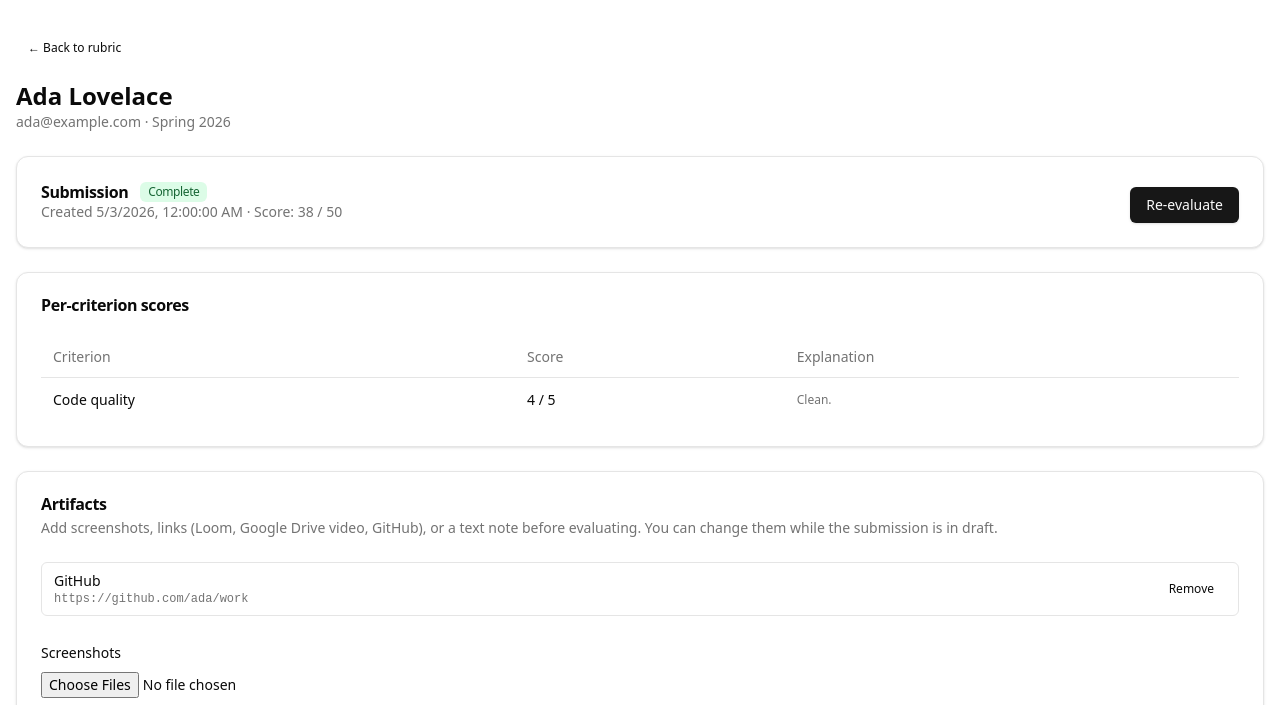
Test: LearnerDetailPage › re-evaluates and shows a success toast on a completed submission
The width and height of the screenshot is (1280, 705).
Click the button with test id "evaluate-button" at {"x": 1185, "y": 205}, box [1130,187,1239,223]
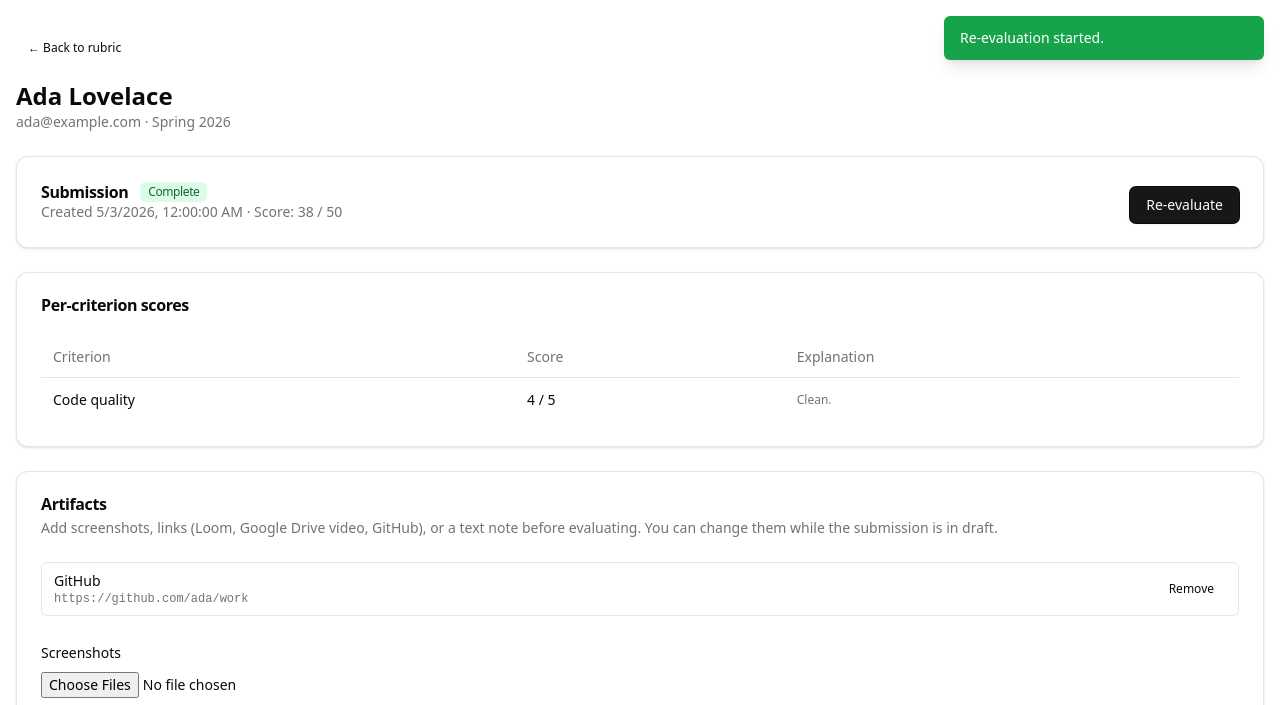
Check: the message with test id "toast-success" shows "Re-evaluation started", box [960,28,1104,47]
